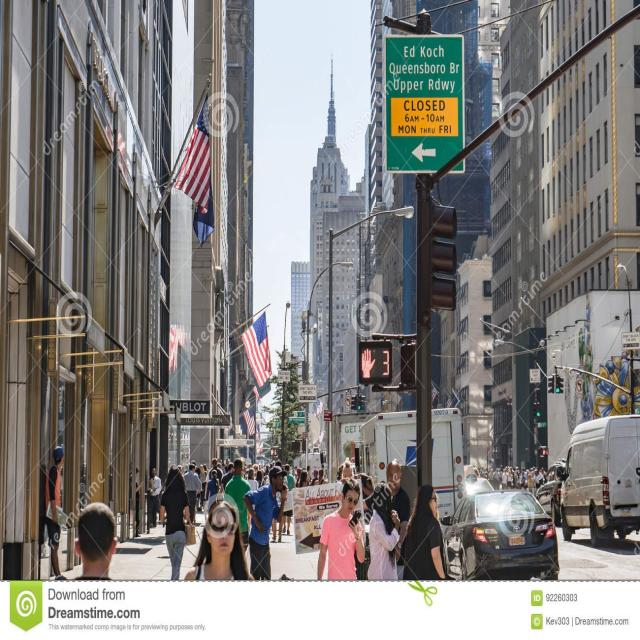body: (338, 458, 411, 640), (183, 499, 252, 580), (367, 482, 402, 640), (54, 501, 119, 580), (316, 478, 366, 580), (244, 465, 288, 580), (158, 464, 196, 597), (402, 484, 447, 580), (45, 441, 68, 582), (223, 458, 252, 554), (184, 462, 202, 524), (281, 464, 296, 535), (272, 461, 284, 543), (148, 466, 162, 528), (204, 457, 224, 500), (205, 468, 221, 516), (194, 461, 208, 512), (242, 462, 270, 486), (135, 467, 144, 538), (221, 462, 236, 493), (513, 465, 527, 492), (337, 459, 356, 478), (291, 463, 312, 480), (245, 468, 259, 492), (313, 469, 329, 485), (492, 468, 502, 492), (478, 467, 492, 483), (254, 470, 266, 488), (297, 470, 309, 488), (218, 456, 230, 474), (535, 473, 547, 488), (526, 465, 548, 473), (506, 470, 514, 490), (502, 468, 509, 490), (177, 462, 188, 476), (526, 473, 536, 488), (310, 470, 319, 486), (499, 469, 502, 494), (499, 465, 513, 469), (189, 459, 195, 465)
